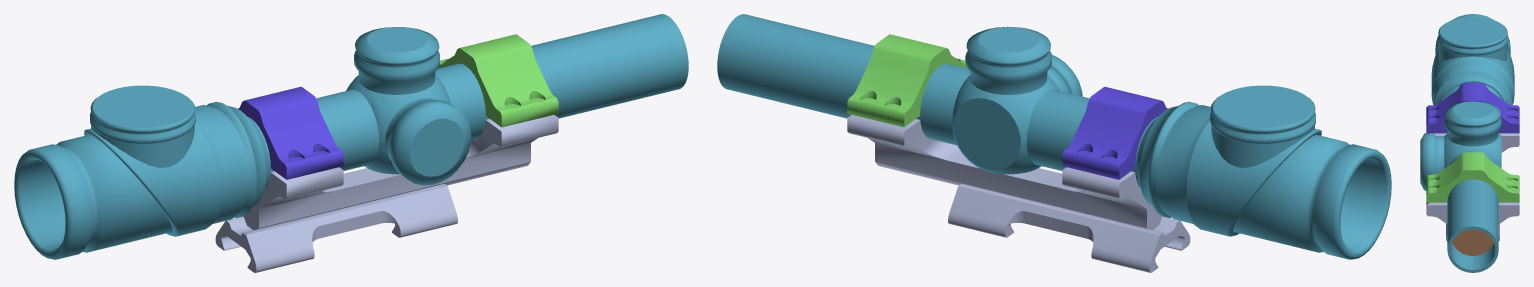
Rendered from gun.fbx.
3 views of the same model, side by side, from view 1: azimuth 30°, elevation 25°; view 2: azimuth 150°, elevation 25°; view 3: azimuth 270°, elevation 25° (orthographic). The views are drawn at different scales.
Parts seen in each view (by area): view 1: 013-0-13, 018-0-18, 004-0-4, 040-0-40; view 2: 013-0-13, 018-0-18, 004-0-4, 040-0-40; view 3: 013-0-13, 004-0-4, 040-0-40, 018-0-18, 035-0-35.
Boxes of the visible parts, <box> form: 013-0-13: <box>14,14,688,259</box>; 018-0-18: <box>215,115,558,272</box>; 004-0-4: <box>438,34,558,127</box>; 040-0-40: <box>238,86,343,179</box>; 013-0-13: <box>717,14,1391,259</box>; 018-0-18: <box>847,115,1190,272</box>; 004-0-4: <box>847,34,967,127</box>; 040-0-40: <box>1062,86,1167,179</box>; 013-0-13: <box>1420,14,1514,272</box>; 004-0-4: <box>1426,152,1519,202</box>; 040-0-40: <box>1426,82,1519,133</box>; 018-0-18: <box>1426,133,1519,241</box>; 035-0-35: <box>1452,229,1493,255</box>.
Size of the model in its own units: 2687 by 737 by 557.
